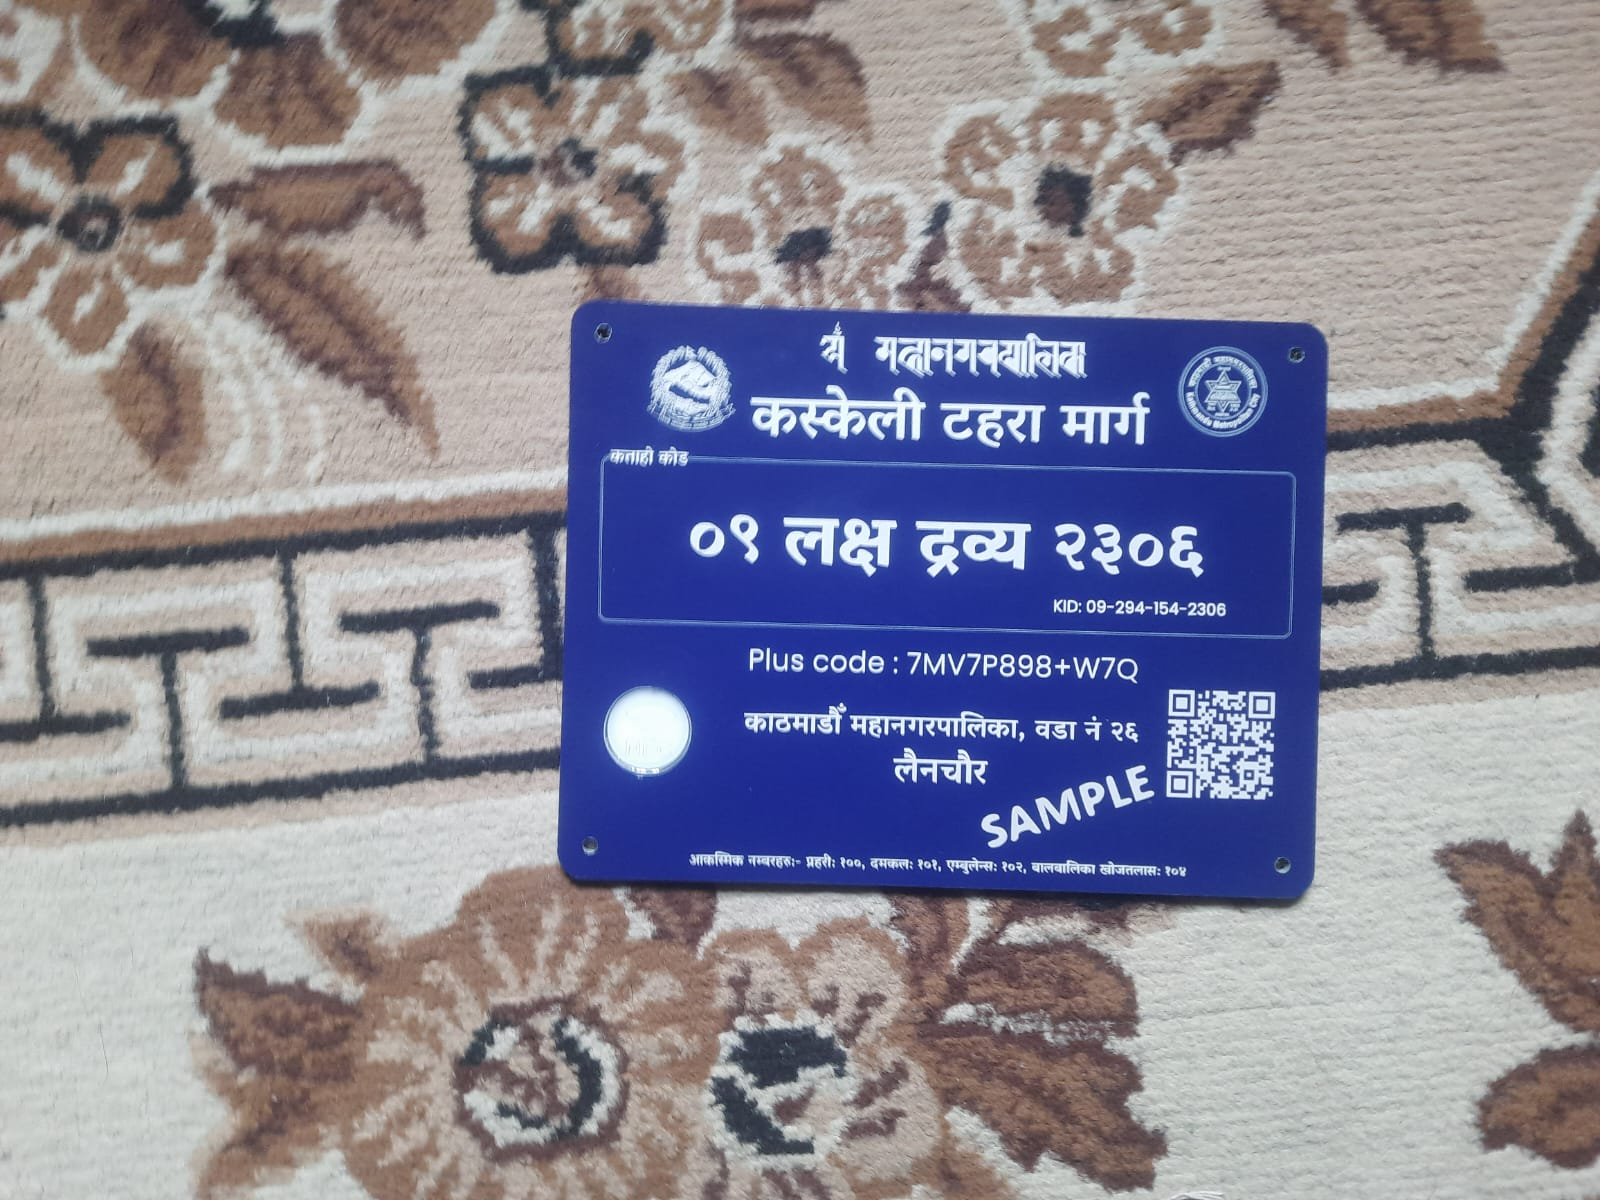Plate: (555, 290, 1329, 900)
